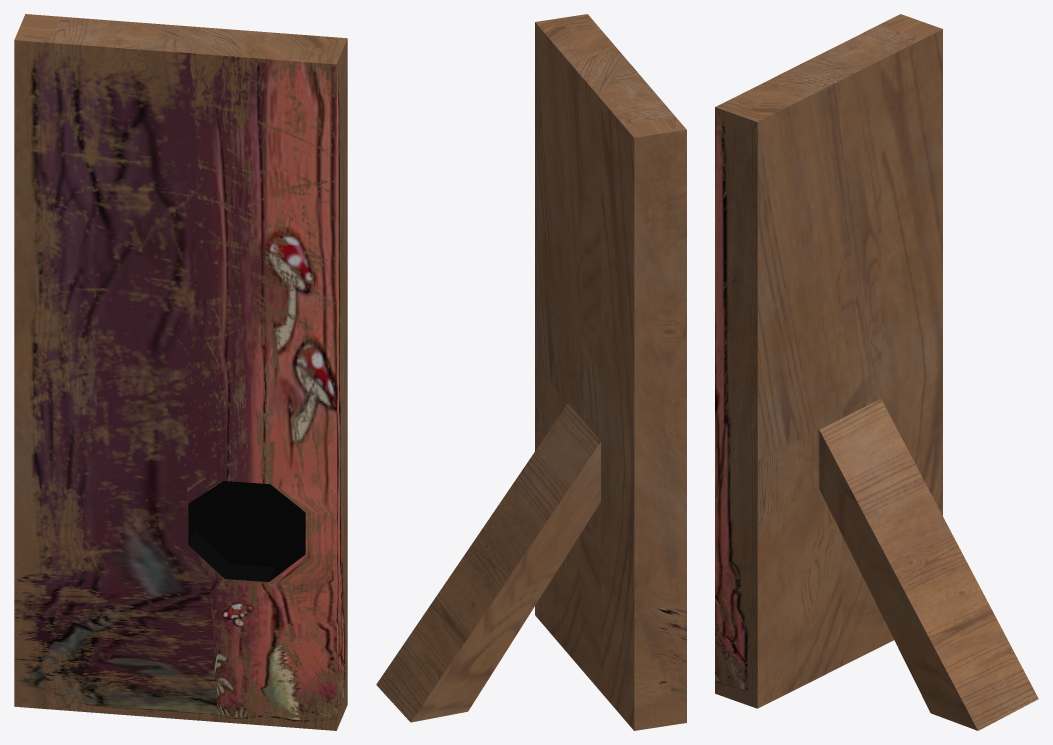
The model's file is GranArbolDerecha.fbx.
3 views of the same model, side by side, from view 1: azimuth 30°, elevation 25°; view 2: azimuth 150°, elevation 25°; view 3: azimuth 270°, elevation 25° (orthographic). The views are drawn at different scales.
Visible parts, largest first — view 1: Cube.001; view 2: Cube.001; view 3: Cube.001.
Boxes of the visible parts, x1,y1,x2,y2 form: Cube.001: (14,14,347,730); Cube.001: (376,14,686,730); Cube.001: (715,14,1038,730).
Size of the model in its own units: 300 by 626 by 313.
Materials: 2 (1 with a texture image).
